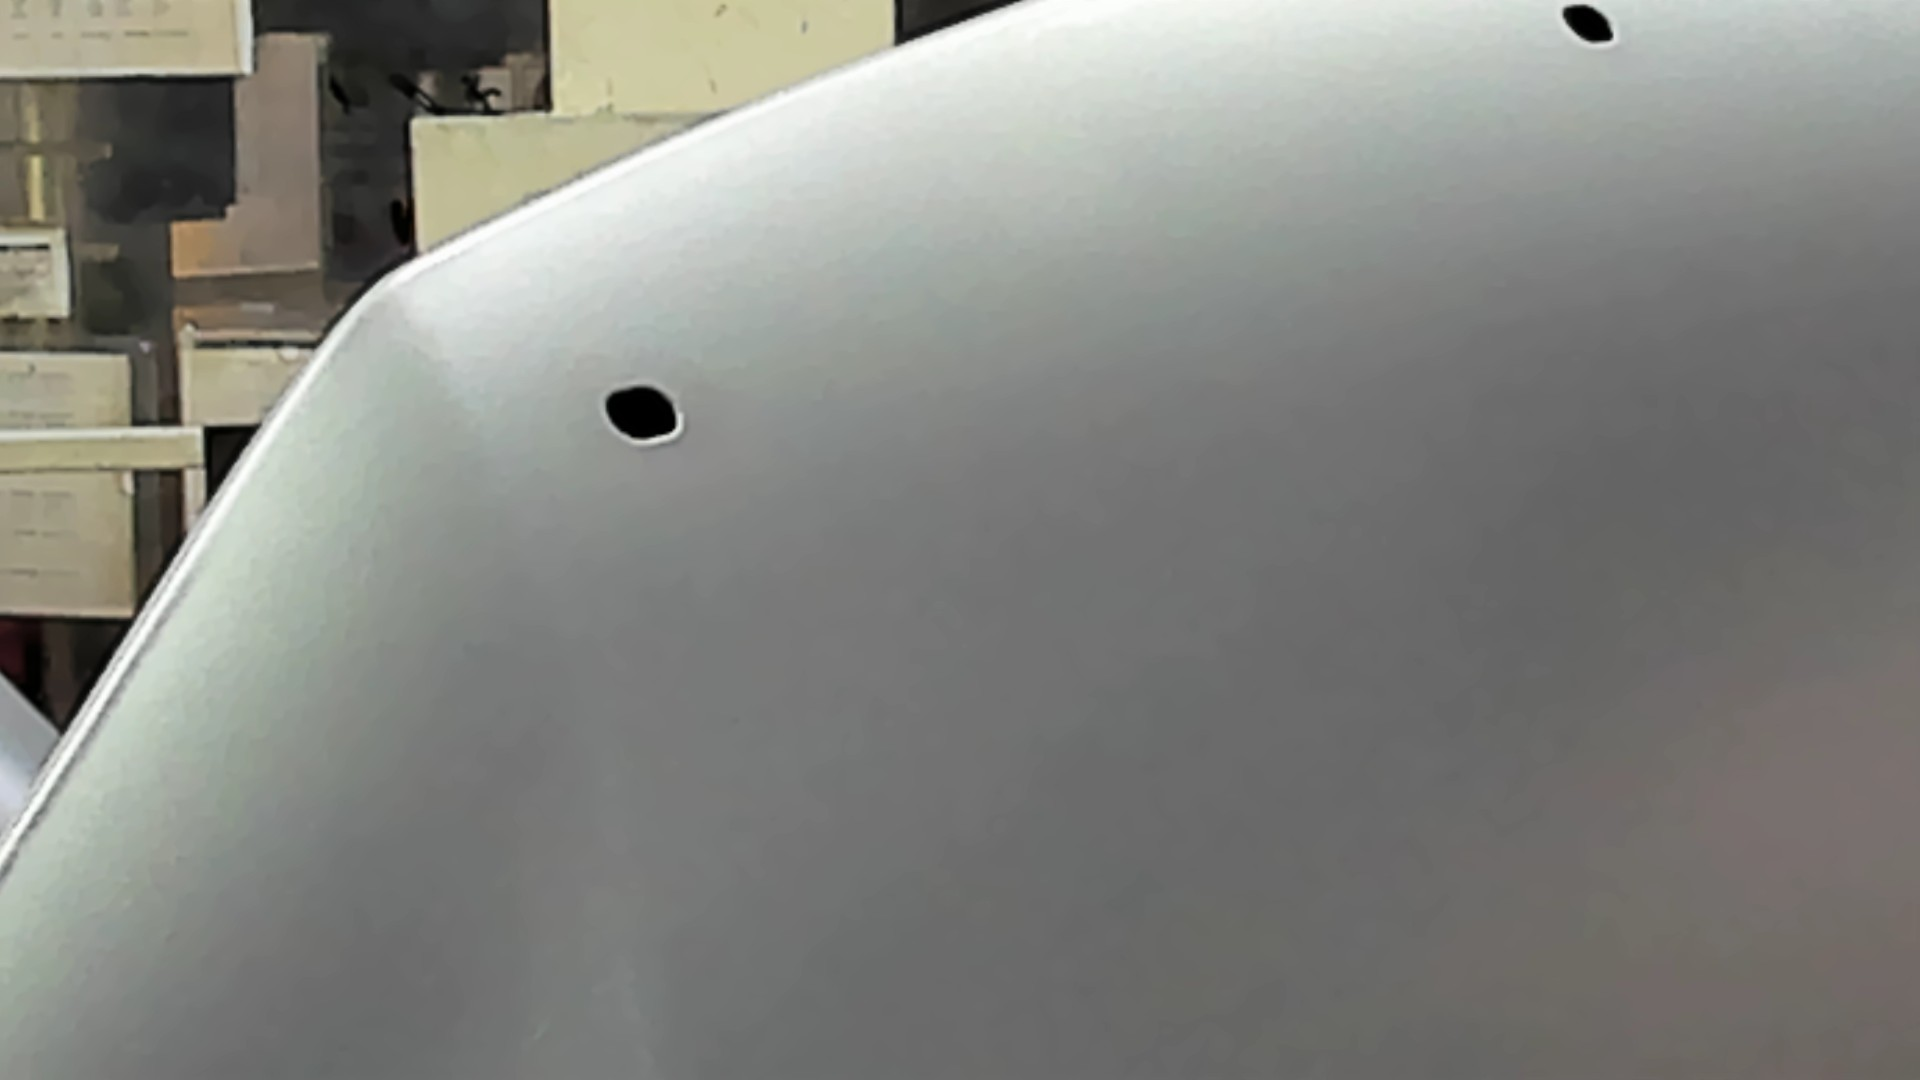amorfo: (597, 377, 686, 450), (1555, 1, 1619, 51)
